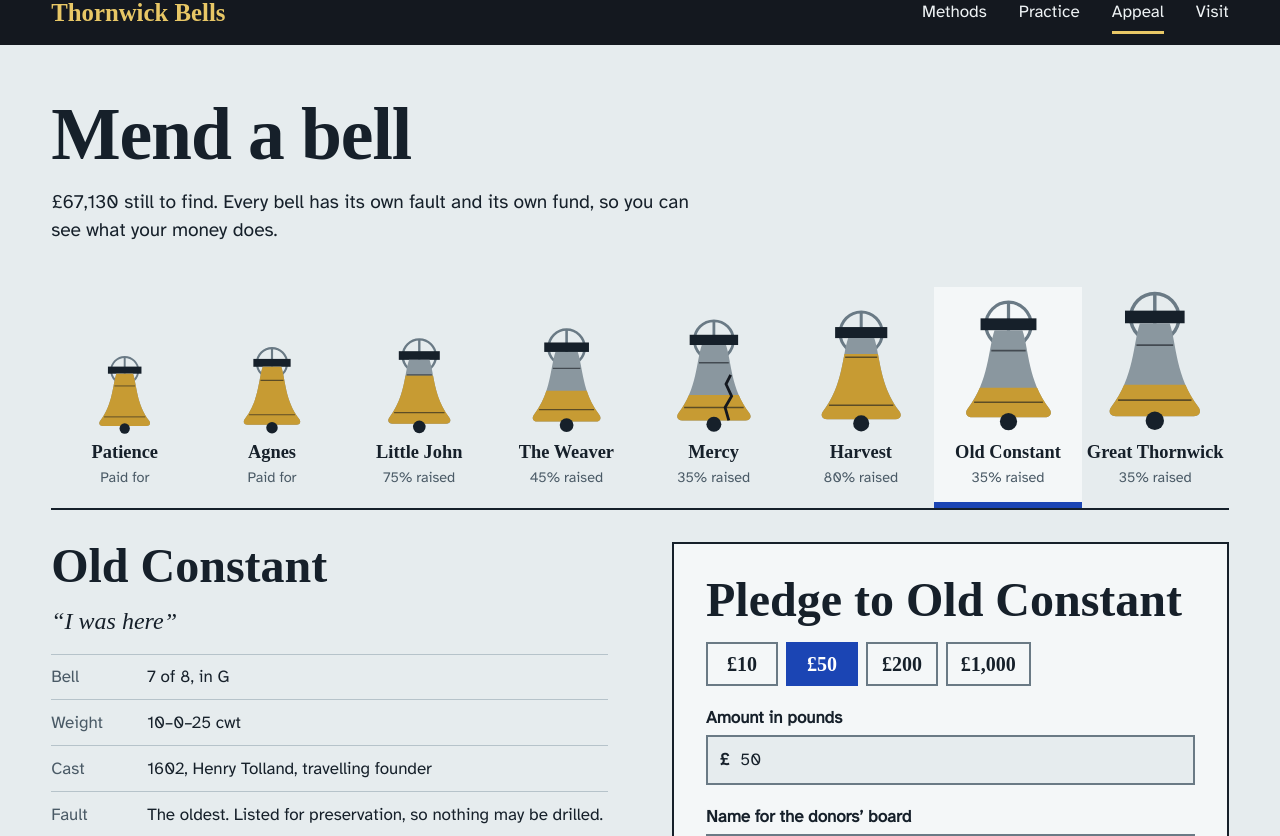
Test case: pledging › shows what Gift Aid is worth, then thanks the donor
Click the button "£200" at point(902, 664), box [866,642,938,686]
(page scrolled)
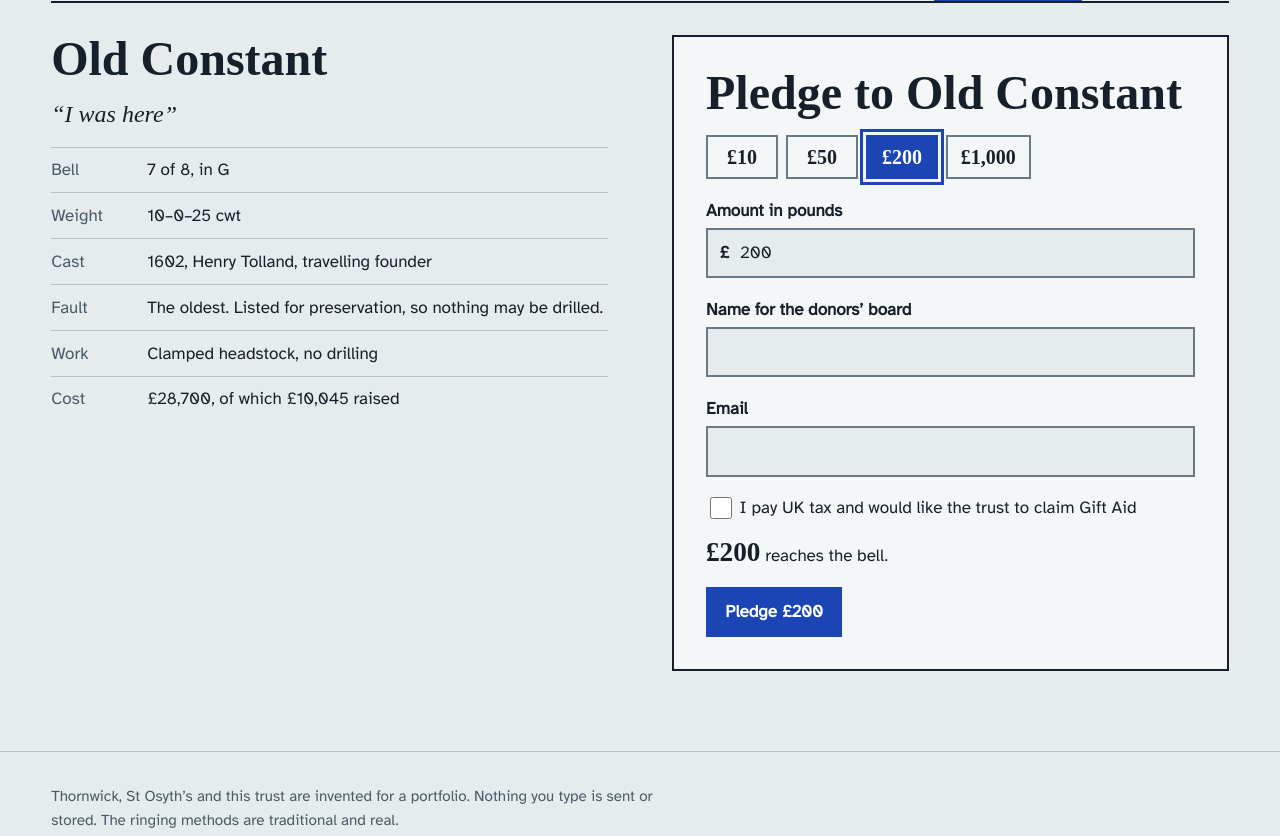
Click the checkbox at point(721, 508), box [710,497,732,519]
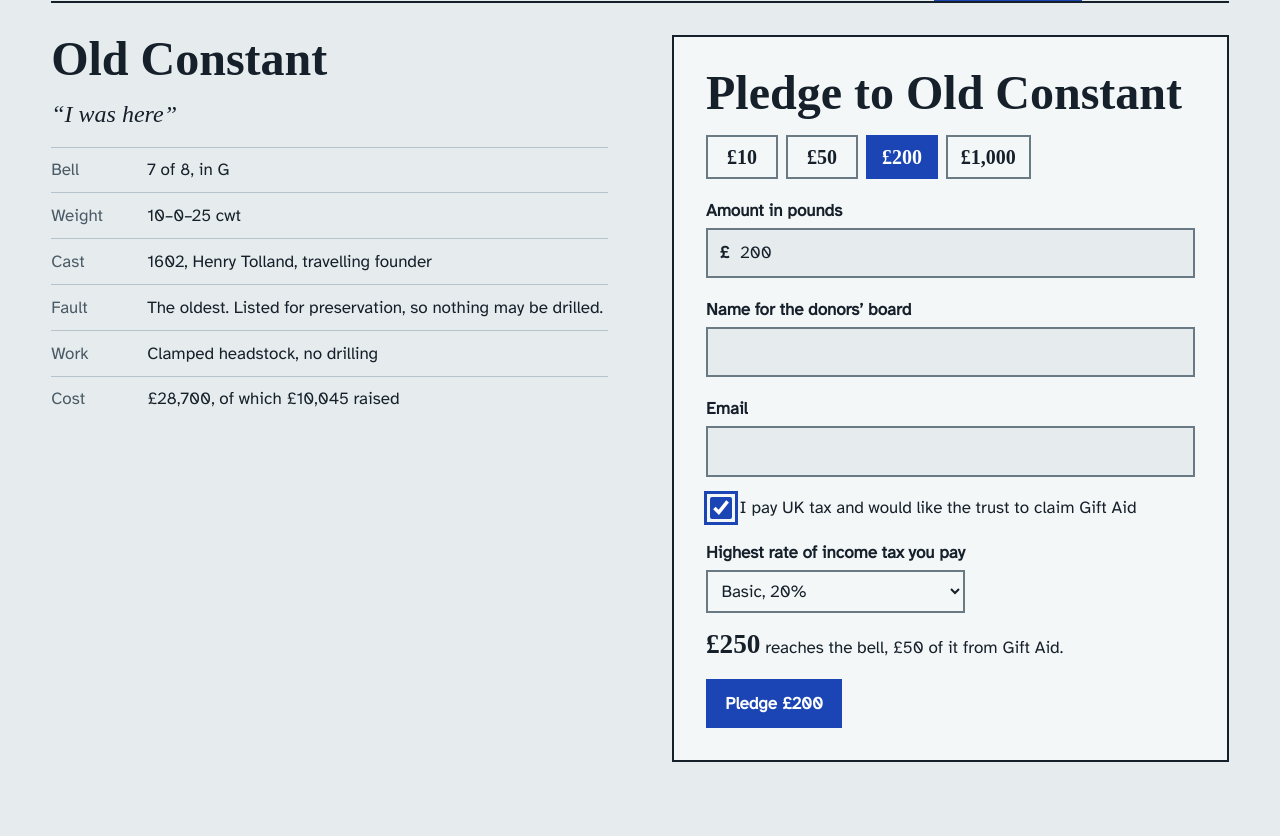
Select "Higher, 40%" in the dropdown labelled "Highest rate of income tax you pay" at point(836, 592), box [706,570,965,614]
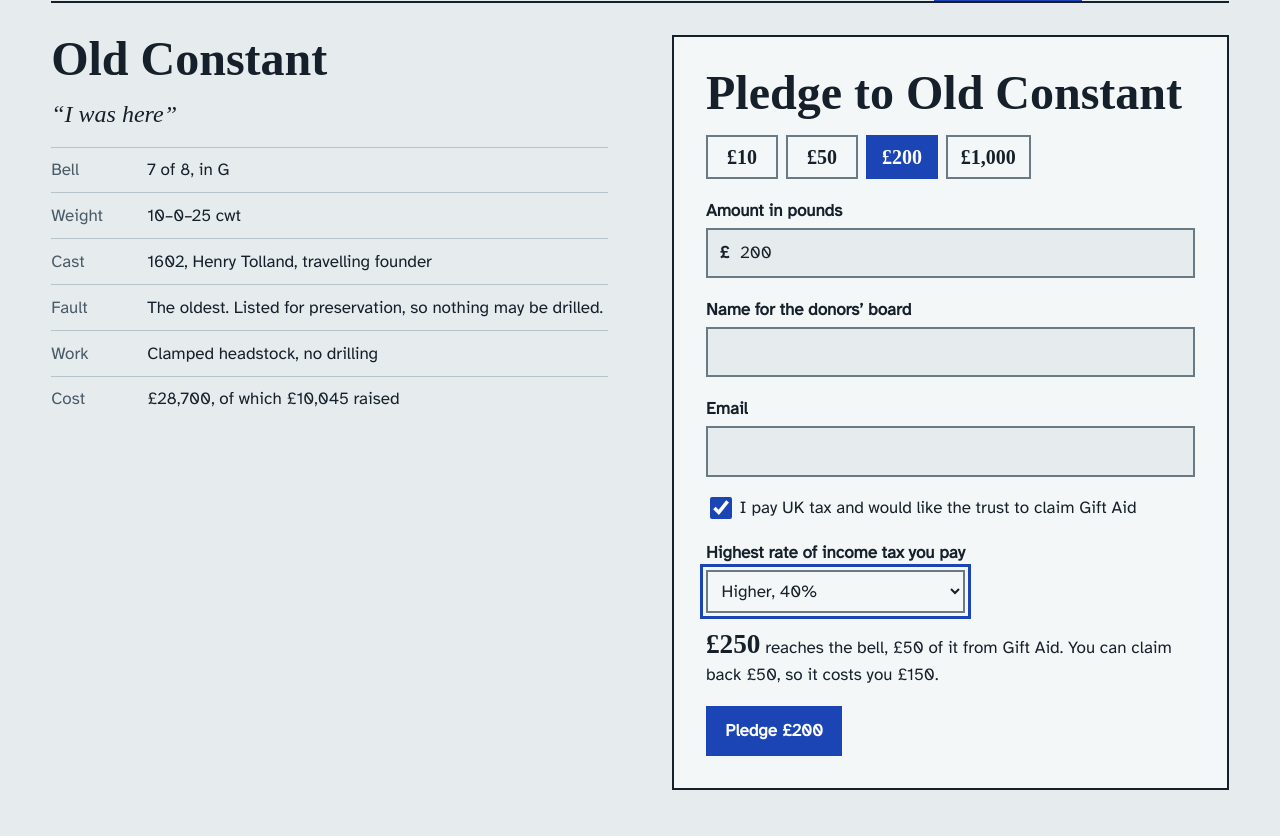
Now the text "claim back £50, so it costs you £150" is shown, box [706,631,1195,688]
Type "Asha Rao" into the field labelled "Name for the donors’ board" at point(950, 352), box [708,329,1193,375]
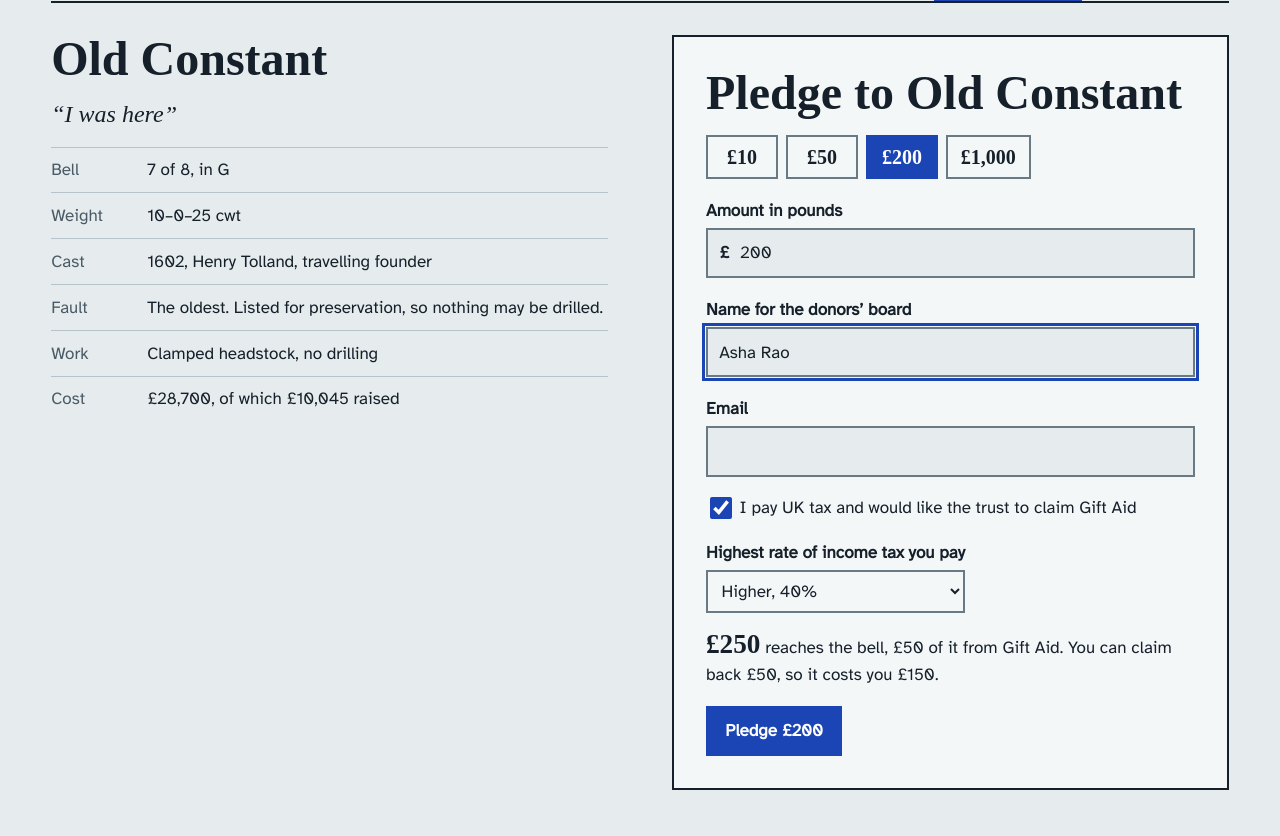
Type "asha@example.org" into the field labelled "Email" at point(950, 451), box [708,428,1193,474]
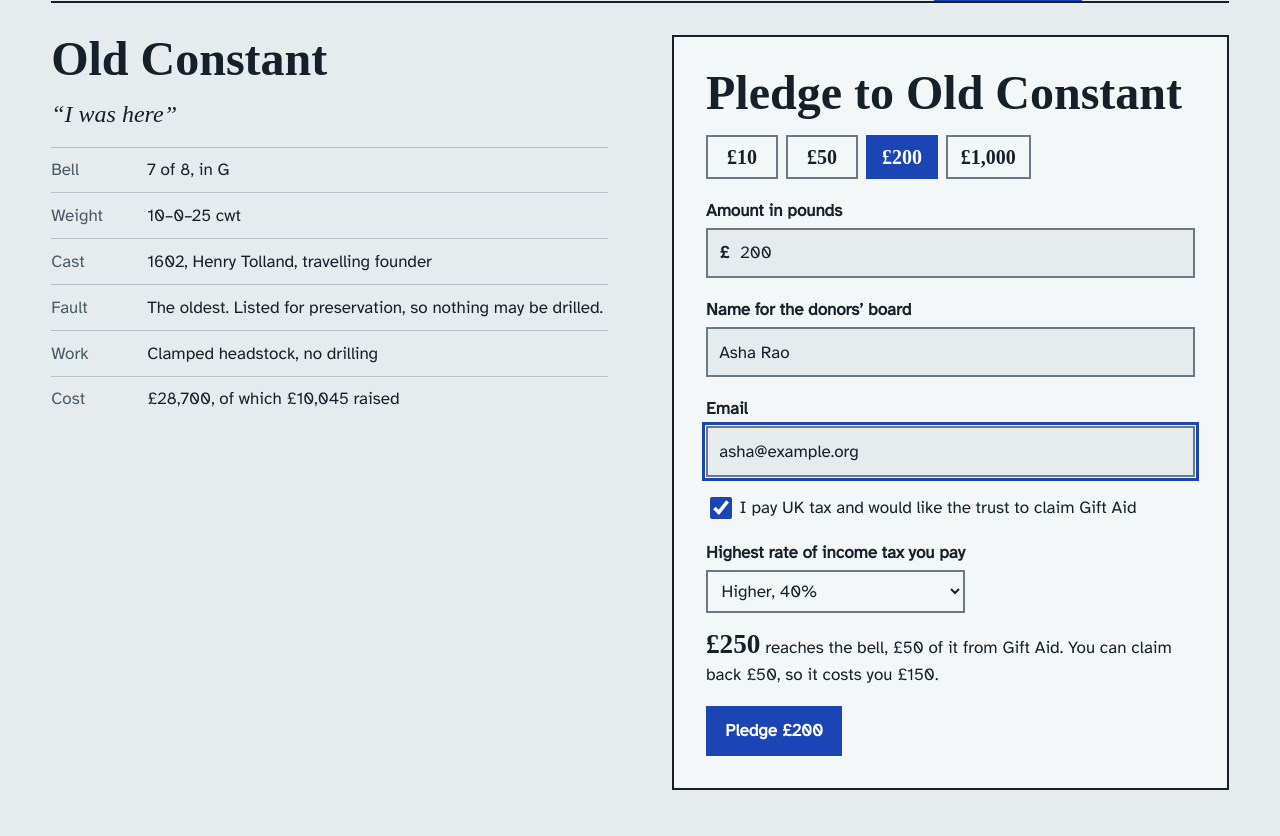
Click the button "Pledge £200" at point(774, 731), box [706,706,842,756]
(page scrolled)
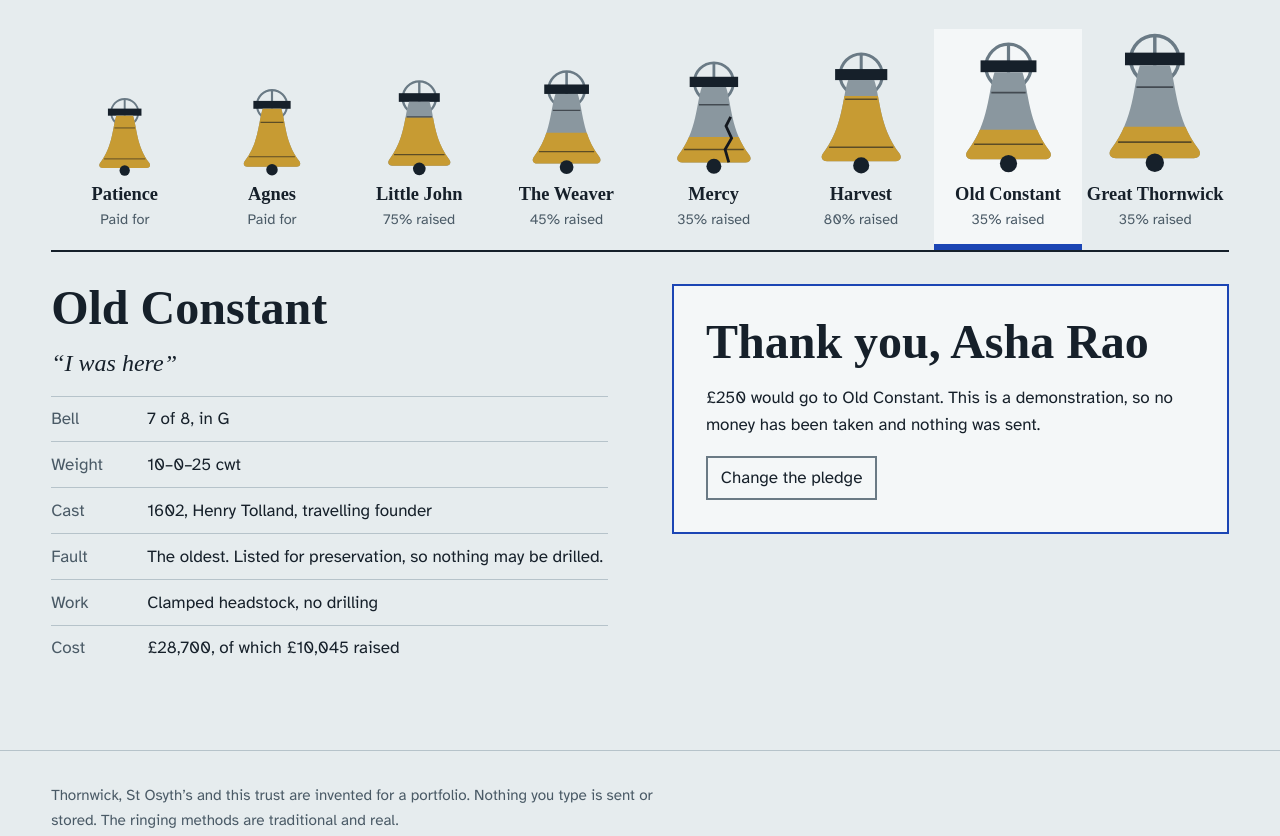
Now the heading "Thank you, Asha Rao" is shown, box [706,318,1149,366]
